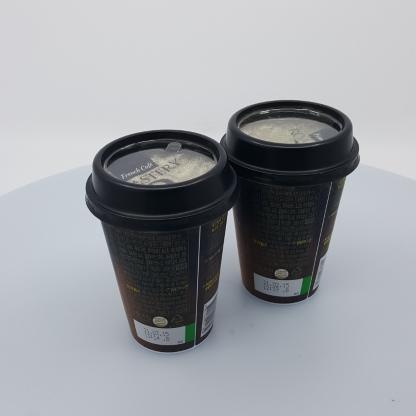--------------------: (85, 130, 238, 353), (216, 99, 360, 304)
